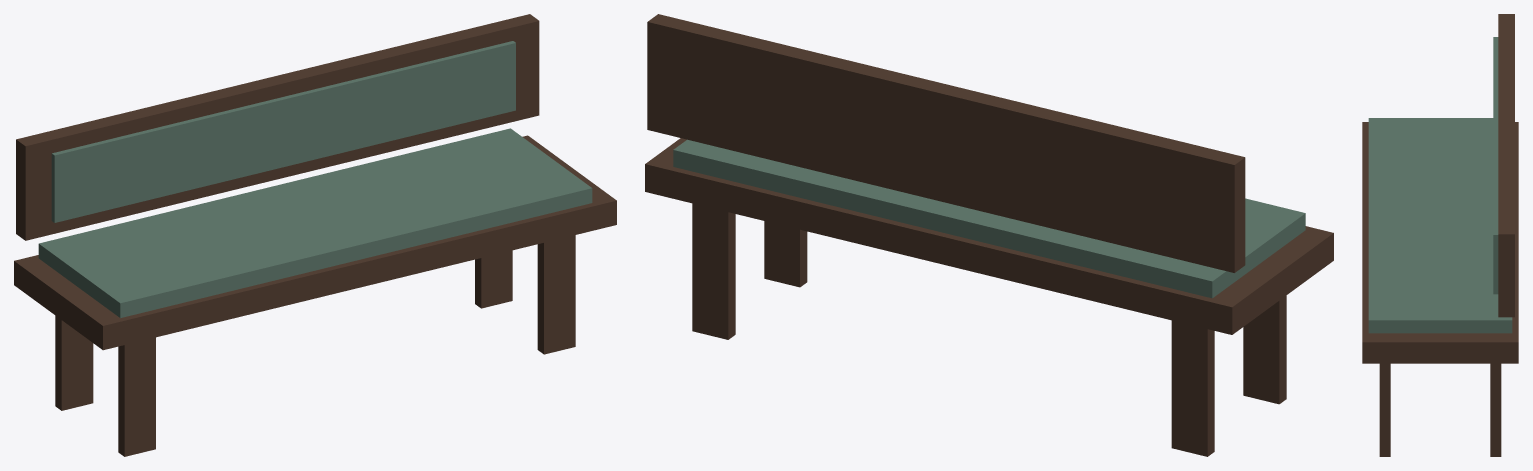
Rendered from LP_ArtGallery_BenchSouth.fbx.
The picture shows the model from 3 angles, left to right: view 1: azimuth 30°, elevation 25°; view 2: azimuth 150°, elevation 25°; view 3: azimuth 270°, elevation 25°; orthographic projection. The views are drawn at different scales.
Parts seen in each view (by area): view 1: SageUpholstery, Walnut; view 2: Walnut, SageUpholstery; view 3: SageUpholstery, Walnut.
Boxes of the visible parts, x1=… form: SageUpholstery: x1=38, y1=41, x2=592, y2=317; Walnut: x1=14, y1=14, x2=616, y2=456; Walnut: x1=645, y1=14, x2=1333, y2=456; SageUpholstery: x1=673, y1=139, x2=1305, y2=298; SageUpholstery: x1=1368, y1=37, x2=1512, y2=333; Walnut: x1=1362, y1=14, x2=1518, y2=456.
Bounding box in the file's own units: 200 × 100 × 60.
